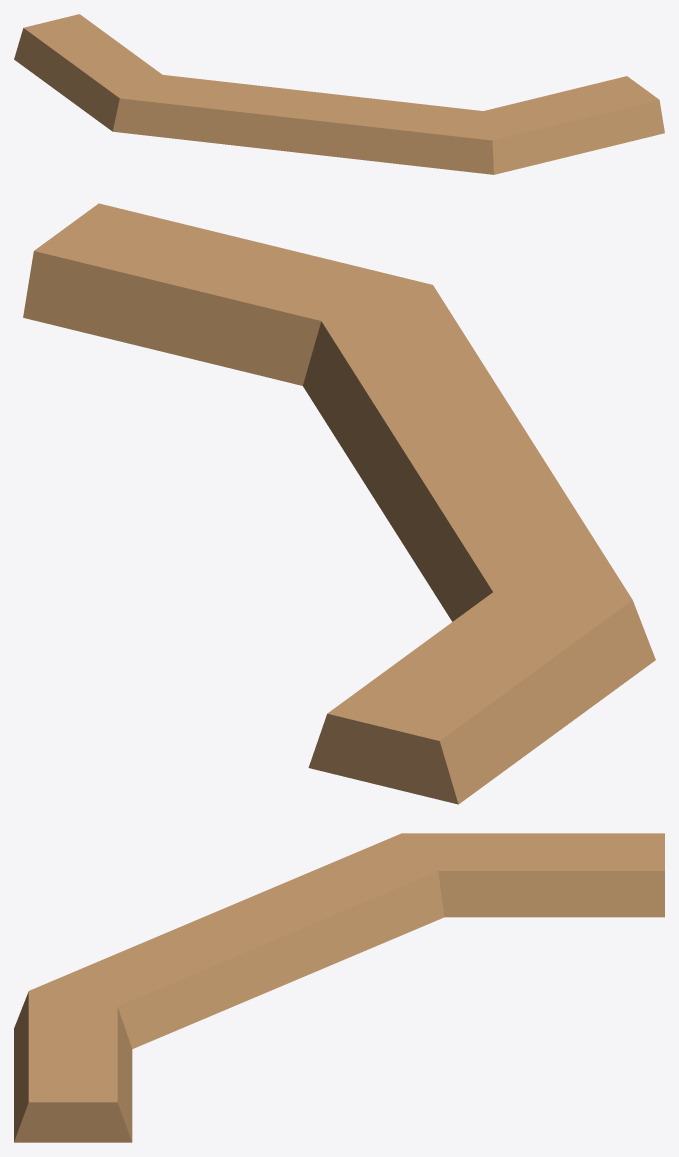
The model's file is Wall_Curved_Large_Base.fbx.
3 renders of one model, top to bottom at view 1: azimuth 30°, elevation 25°; view 2: azimuth 150°, elevation 25°; view 3: azimuth 270°, elevation 25°, orthographic. The views are drawn at different scales.
Visible parts, largest first — view 1: object1; view 2: object1; view 3: object1.
Part boxes in pixels (x1,y1,x2,y2): object1: (14,14,664,174); object1: (23,203,655,804); object1: (14,833,664,1142).
Size of the model in its own units: 2.2 by 0.15 by 2.2.
